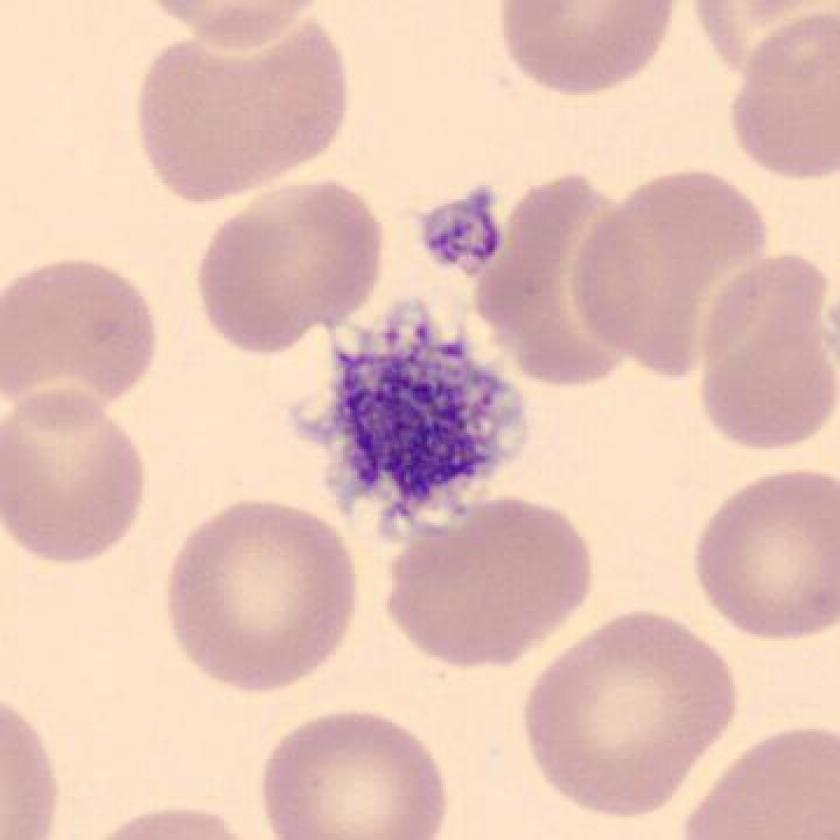platelets: (300, 302, 538, 540), (407, 182, 510, 279)
